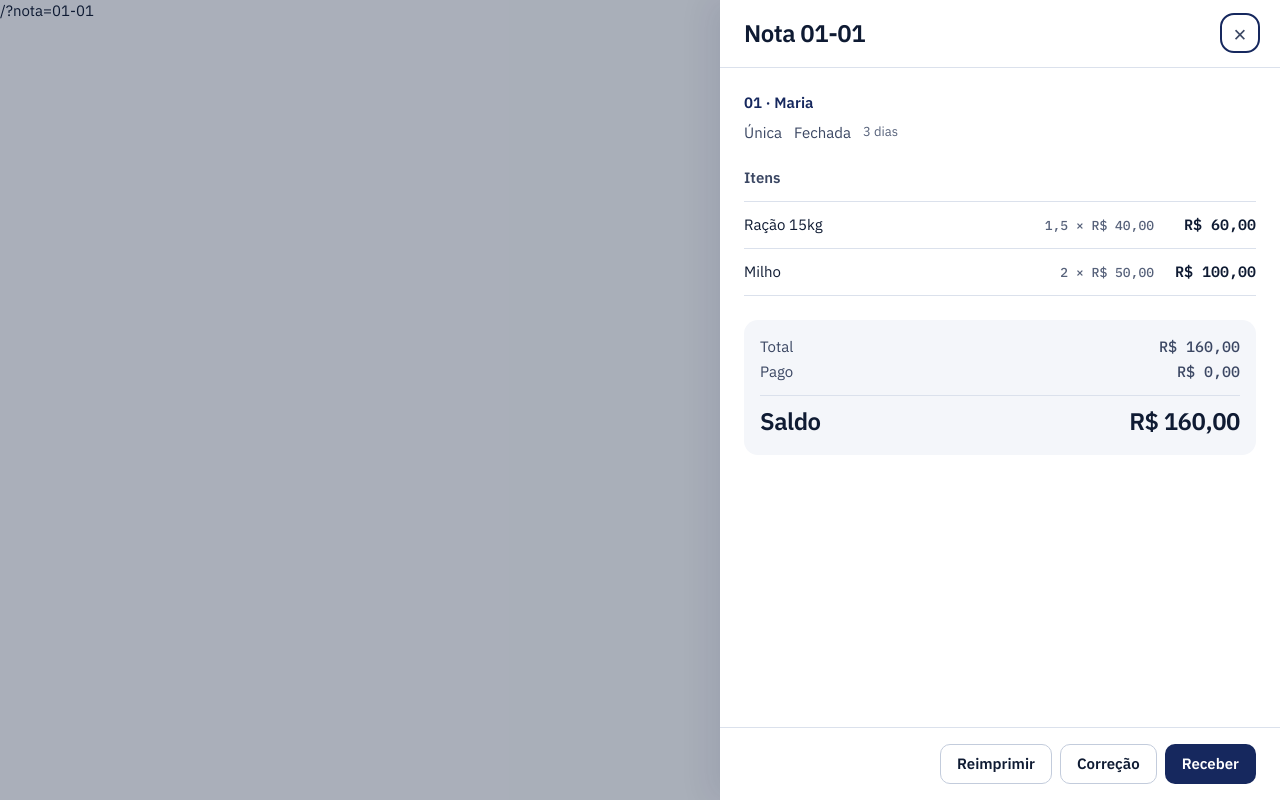
Scenario: Correcao › os itens viram uma linha de campos cada, preenchidos, no lugar da lista e das ações
Click the button "Correção" at [1108, 764], box [1060,744,1157,784]
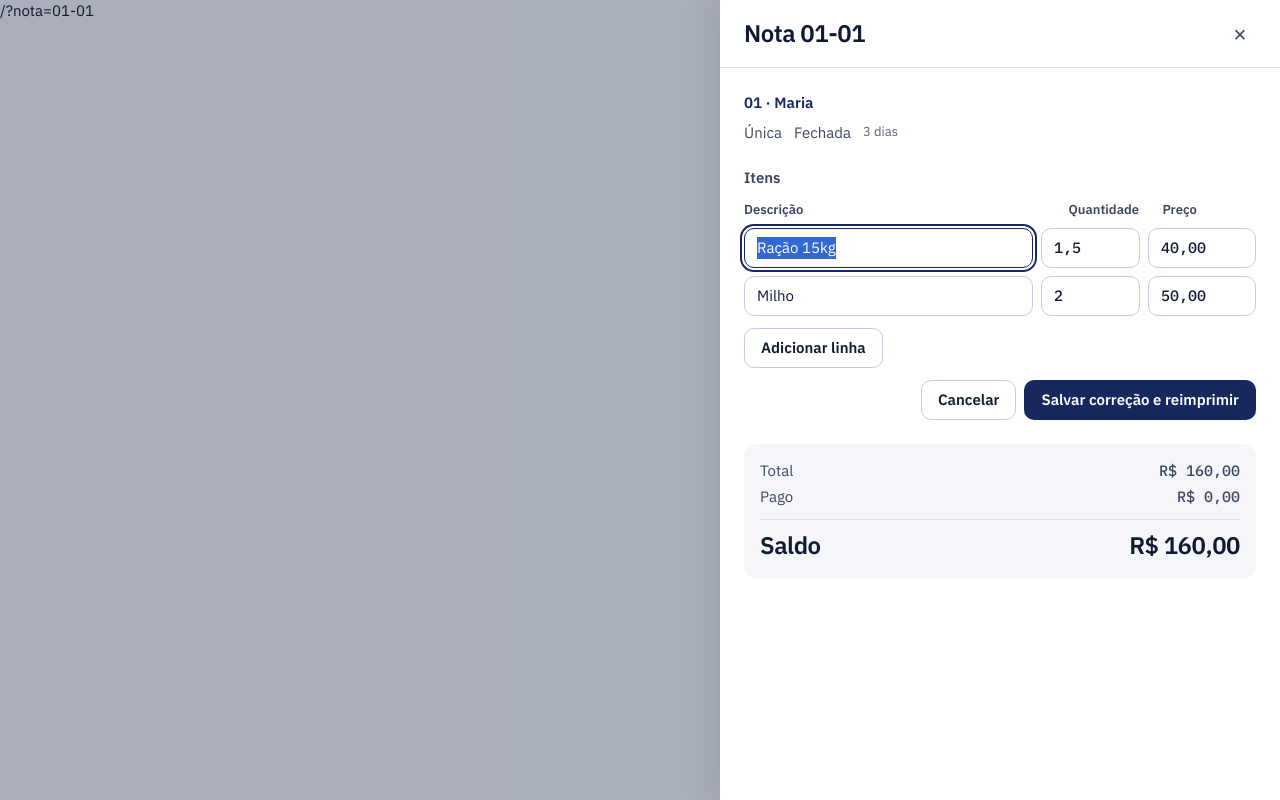
Expected: the form named "Correção dos itens" is shown, [744,167,1256,420]
Expected: the list item "Ração 15kg 1,5 × R$ 40,00 R$ 60,00" is gone
Expected: the button "Receber" is gone
